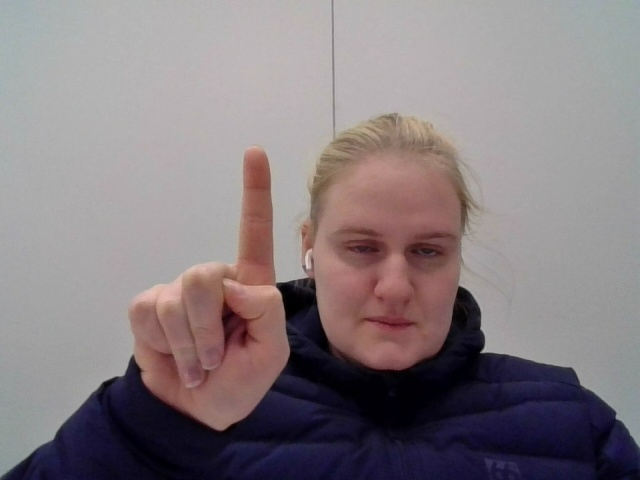up: (133, 141, 301, 447)
